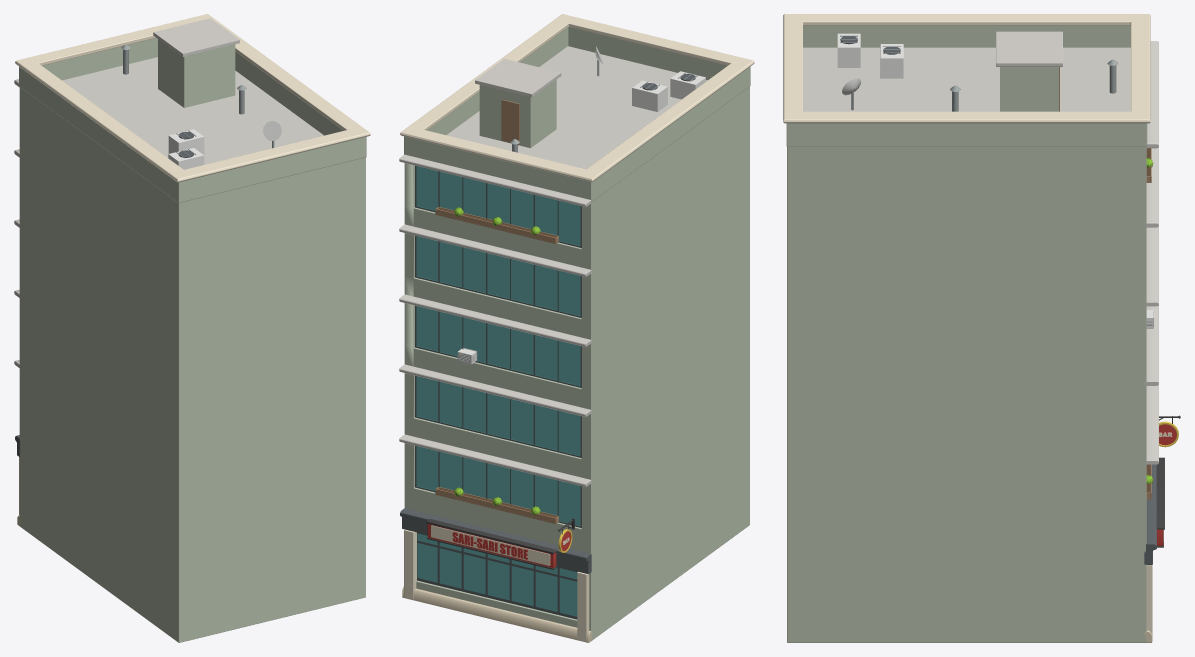
The model's file is glassmid_5.glb.
The picture shows the model from 3 angles, left to right: view 1: azimuth 30°, elevation 25°; view 2: azimuth 150°, elevation 25°; view 3: azimuth 270°, elevation 25°; orthographic projection. The views are drawn at different scales.
Parts seen in each view (by area): view 1: shell, trim, props; view 2: shell, trim, props, frames, sign_sari_sari_store, sign_sari_sari_store_text; view 3: shell, trim, props, sign_sari_sari_store.
Part boxes in pixels (x1,y1,x2,y2): shell: (19,57,365,642); trim: (14,14,370,525); props: (121,18,281,169); shell: (404,46,749,640); trim: (399,14,754,642); props: (435,46,705,523); frames: (415,165,581,619); sign_sari_sari_store: (426,519,557,569); sign_sari_sari_store_text: (452,532,527,559); shell: (787,47,1146,642); trim: (783,14,1158,642); props: (837,31,1154,499); sign_sari_sari_store: (1156,457,1164,547).
Bounding box in the file's own units: 9.81 × 24.12 × 15.48.
18 materials, 2 textured.
